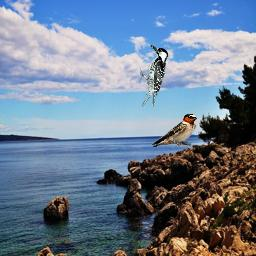Swallow: (151, 113, 197, 147)
Woodpecker: (140, 44, 168, 107)
